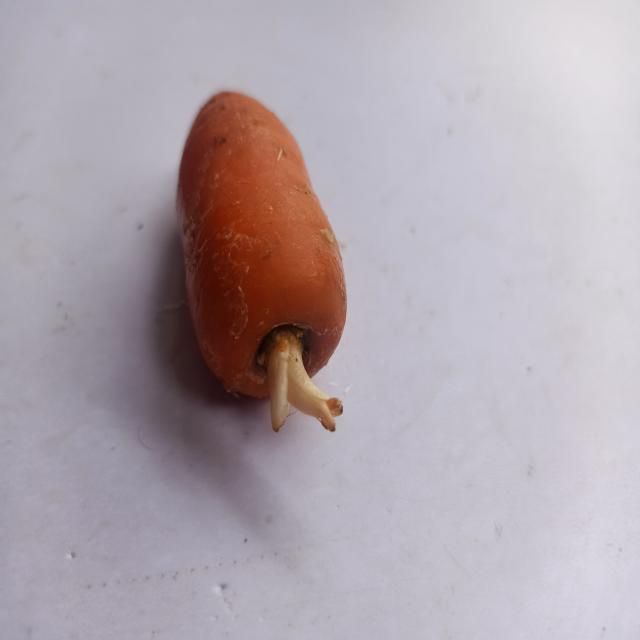Carrot: (165, 75, 364, 453)
